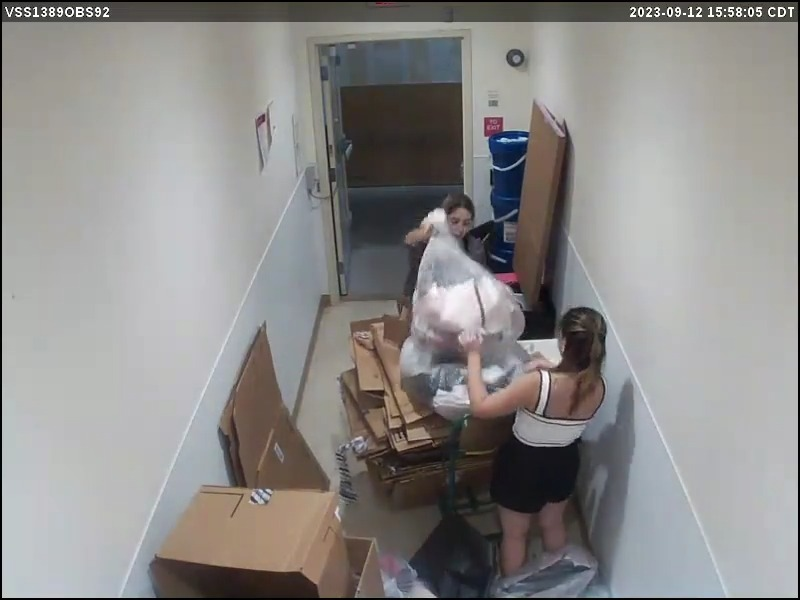No-gloves: (454, 325, 495, 361)
